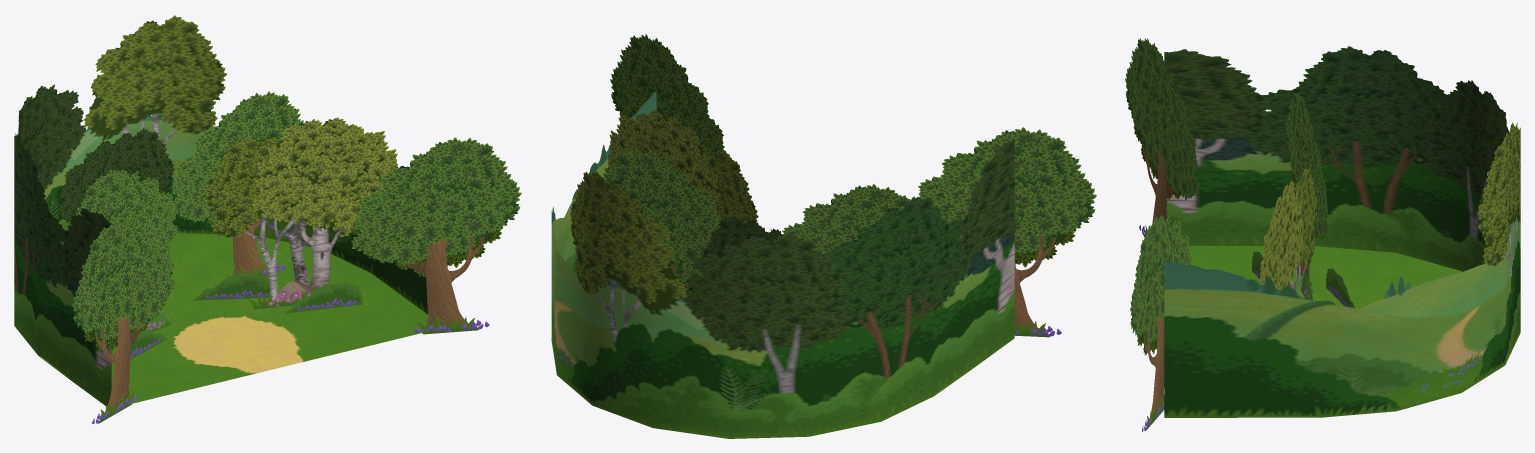
The model's file is ending.dae.
The picture shows the model from 3 angles, left to right: view 1: azimuth 30°, elevation 25°; view 2: azimuth 150°, elevation 25°; view 3: azimuth 270°, elevation 25°; orthographic projection. The views are drawn at different scales.
Parts seen in each view (by area): view 1: endtrees, floor, junctree014, endtree2, endtree1, endtree4, junctree015, endtree3, endbush5, endbush2, endbush1; view 2: endtrees, endtree1, endtree4, junctree014, endtree2, endtree3, junctree015; view 3: endtrees, endtree1, floor, endtree2, junctree014, endtree3, endbush4.
Boxes of the visible parts, box(x1,y1,x2,y2) form: endtrees: box(14, 15, 428, 406); floor: box(39, 233, 428, 404); junctree014: box(204, 117, 398, 309); endtree2: box(351, 137, 521, 334); endtree1: box(72, 219, 175, 424); endtree4: box(171, 91, 303, 278); junctree015: box(58, 128, 174, 224); endtree3: box(76, 168, 178, 244); endbush5: box(286, 282, 362, 313); endbush2: box(194, 273, 269, 300); endbush1: box(130, 328, 167, 359); endtrees: box(551, 90, 1014, 438); endtree1: box(918, 127, 1096, 337); endtree4: box(602, 149, 721, 298); junctree014: box(608, 109, 758, 299); endtree2: box(610, 34, 724, 153); endtree3: box(782, 184, 910, 254); junctree015: box(702, 215, 784, 256); endtrees: box(1164, 46, 1520, 417); endtree1: box(1125, 38, 1199, 237); floor: box(1189, 246, 1520, 416); endtree2: box(1130, 215, 1191, 431); junctree014: box(1257, 168, 1317, 332); endtree3: box(1286, 91, 1328, 292); endbush4: box(1326, 268, 1354, 308).
Size of the model in its own units: 127 by 59.46 by 91.93.
Materials: 9 (9 with a texture image).
